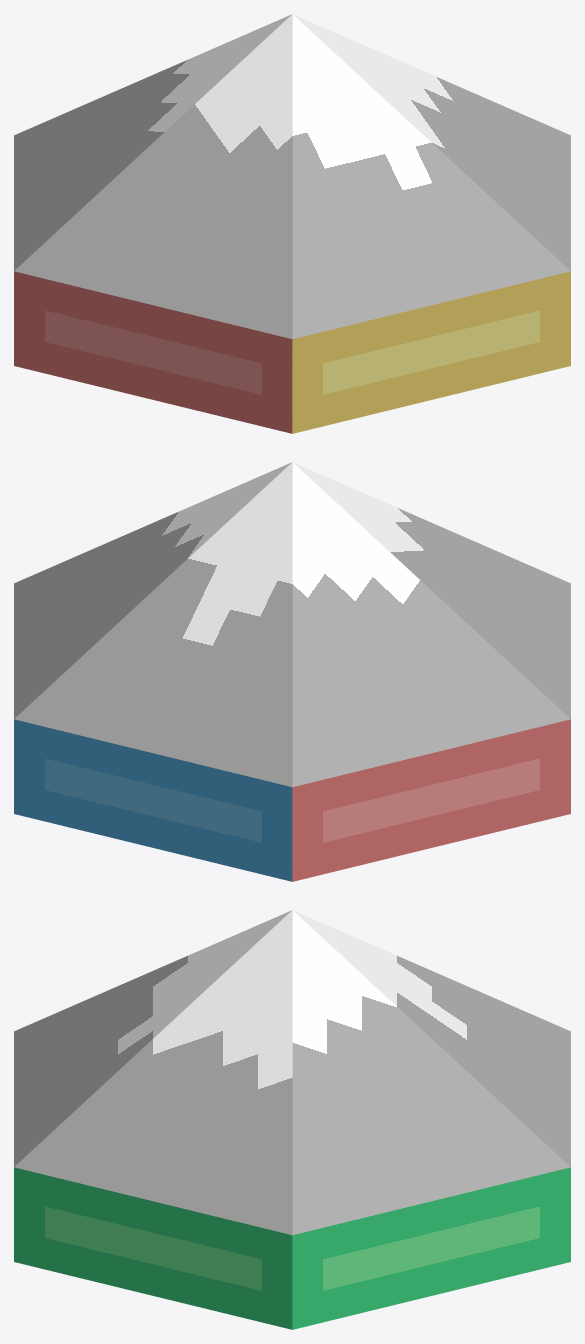
File: mountain.glb
3 renders of one model, top to bottom at view 1: azimuth 30°, elevation 25°; view 2: azimuth 150°, elevation 25°; view 3: azimuth 270°, elevation 25°, orthographic.
Visible parts, largest first — view 1: cylinder; view 2: cylinder; view 3: cylinder.
Part boxes in pixels (left/top/right/bottom): cylinder: left=14, top=14, right=570, bottom=433; cylinder: left=14, top=462, right=570, bottom=881; cylinder: left=14, top=910, right=570, bottom=1329.
Size of the model in its own units: 1.15 by 0.5625 by 1.
Materials: 1 (1 with a texture image).
